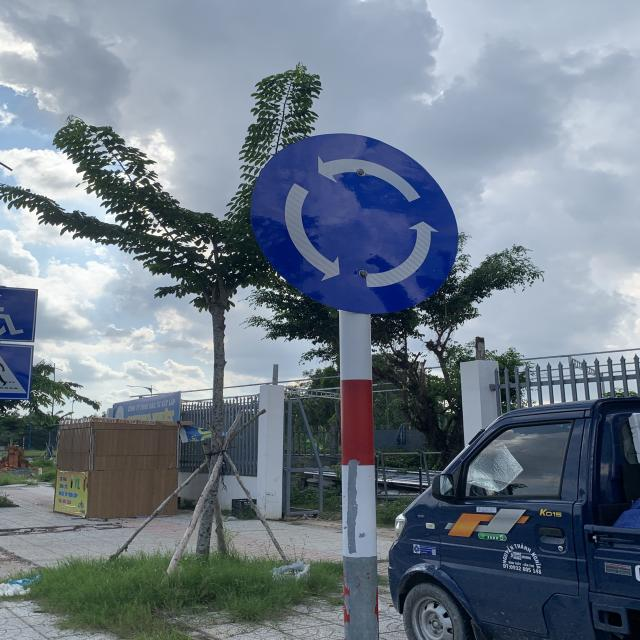Xe_Bus: (248, 132, 460, 314)
